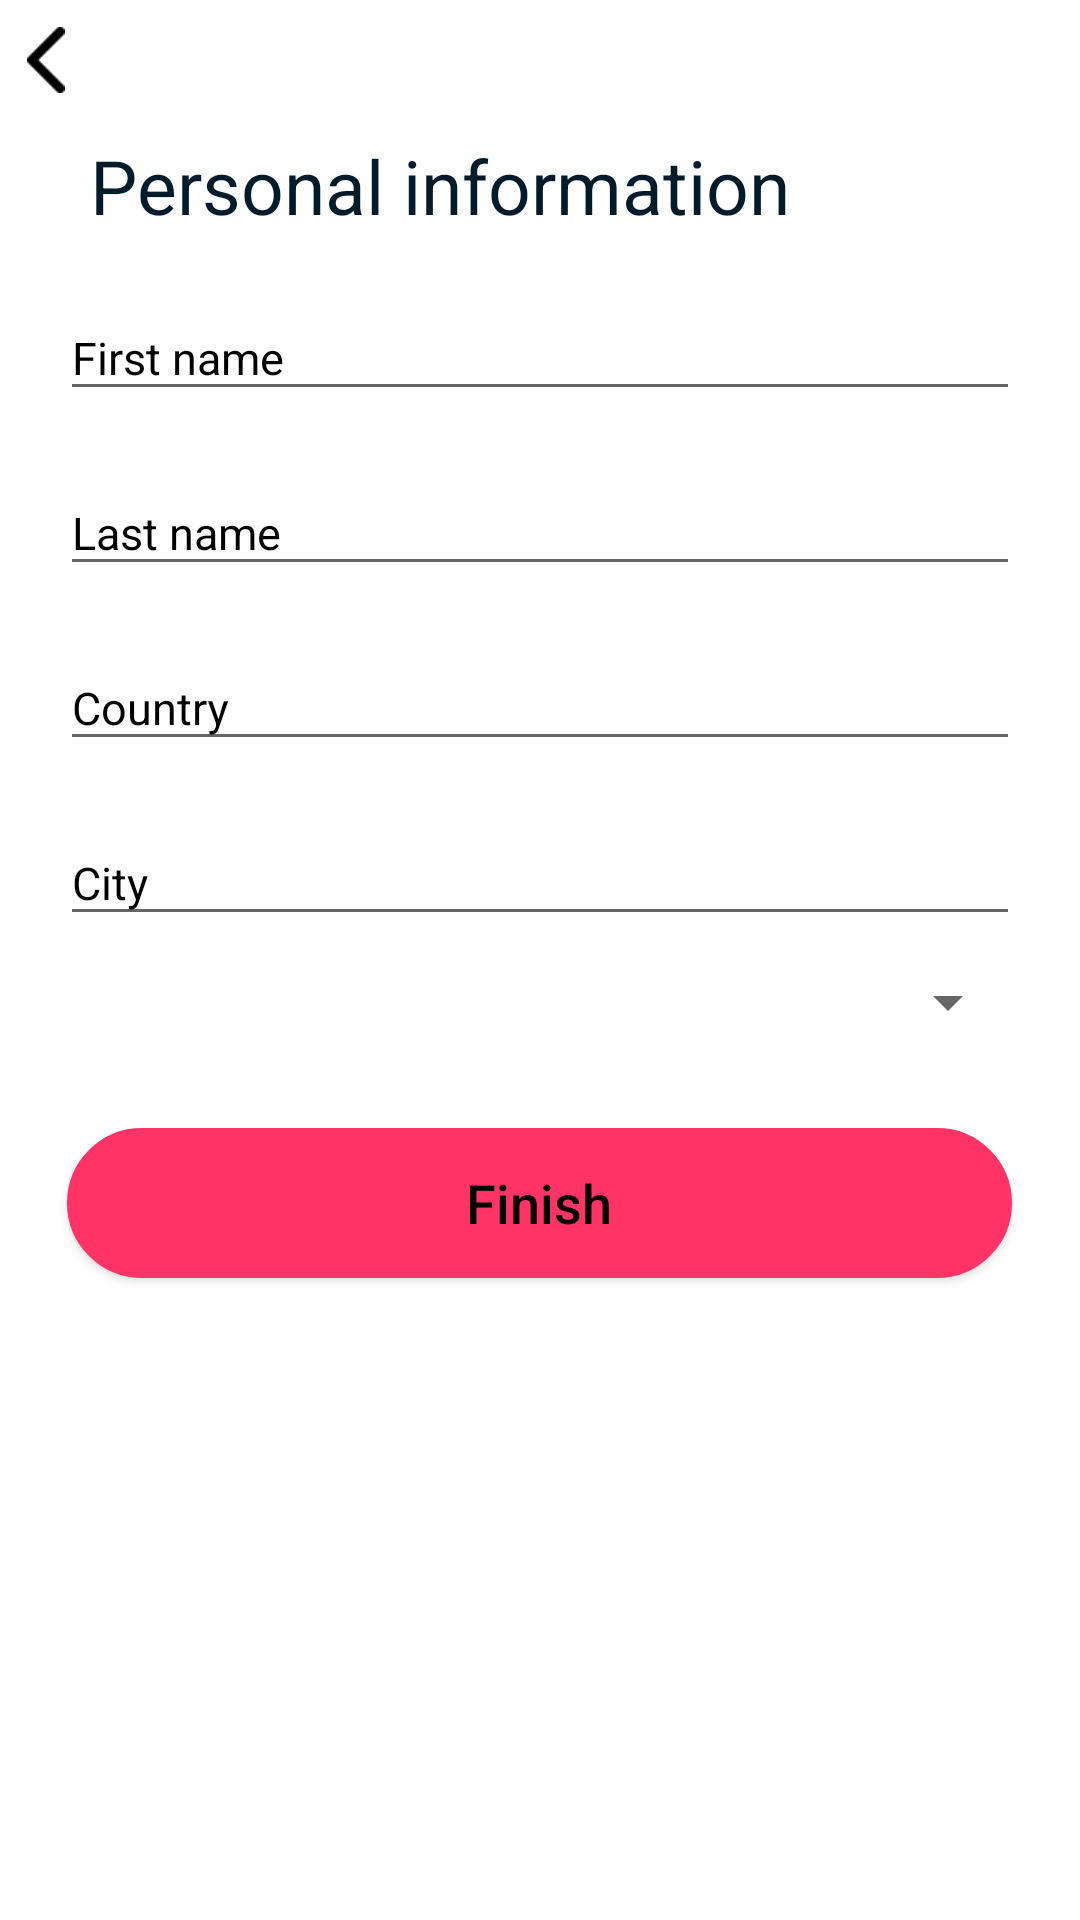

Where icons sit on this 1080px x 1920px app screen, as box(x1, y1, x2, y2):
back: box(27, 27, 65, 93)
